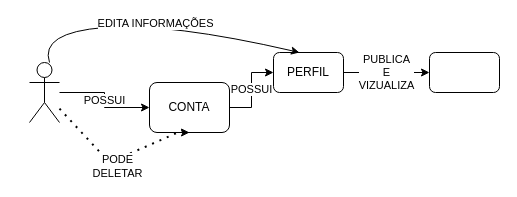
The diagram is 517 pixels wide and 197 high, and some of its shapes have lost their labels. The shapes that lost their labels are listed below. From the top down, each one's centre as x and y in pixels, then its label:
At pixel 44 92: "USUARIO".
At pixel 464 72: "POSTS".
